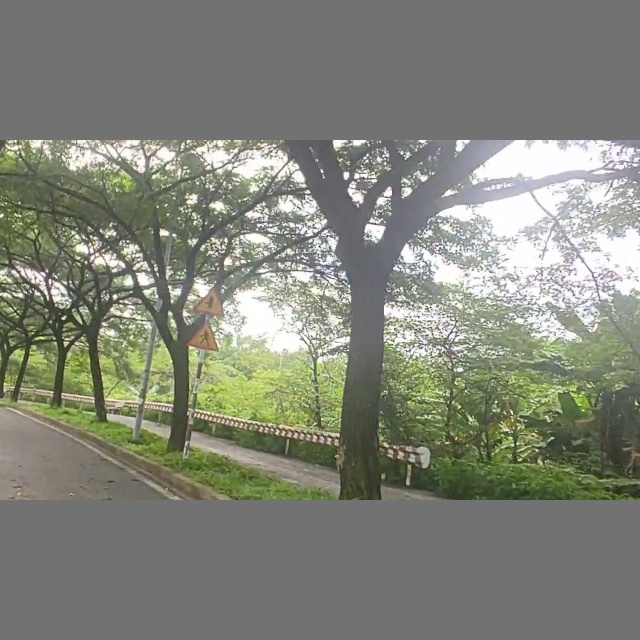W.207: (193, 285, 227, 317)
W.224: (182, 321, 224, 353)
